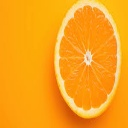orange: (52, 1, 122, 120)
